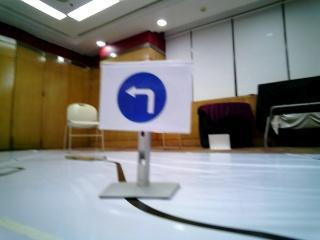left: (106, 69, 187, 132)
